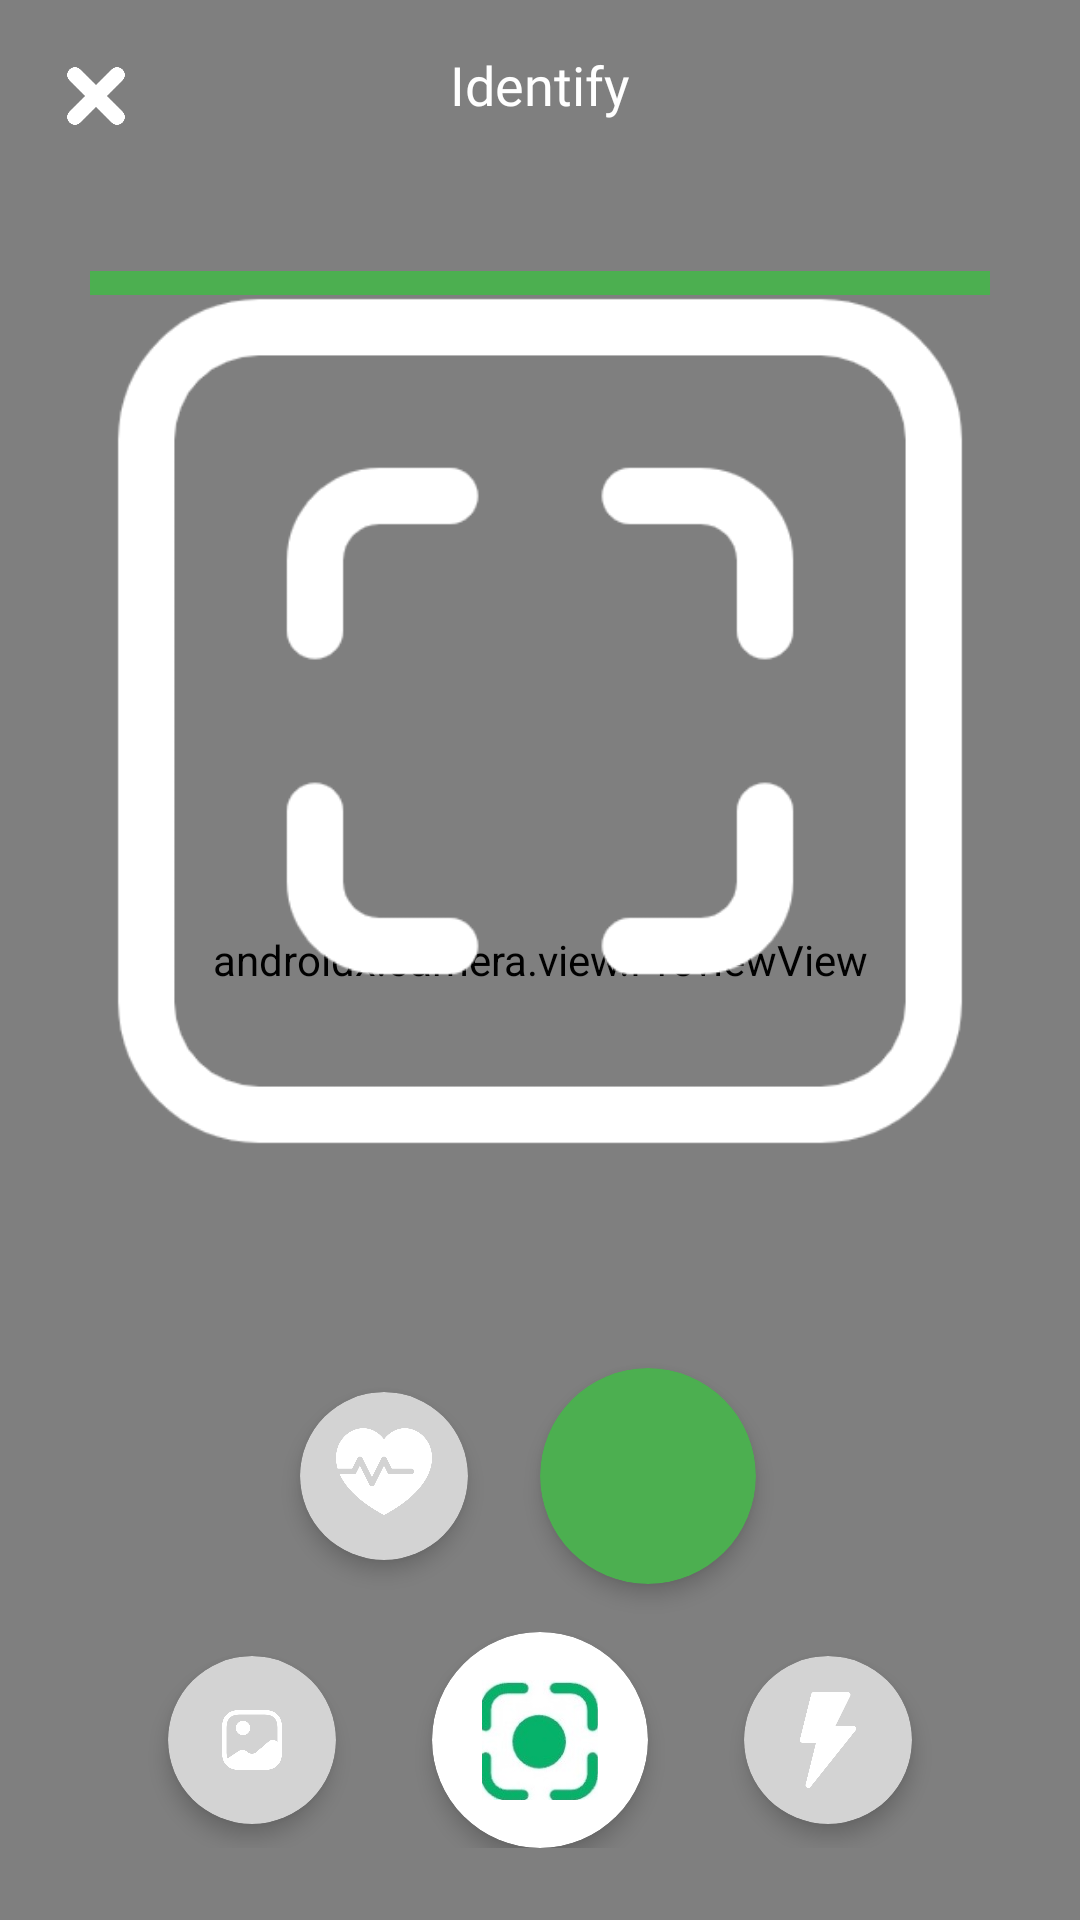

Icon click points for this 1080 × 1920 phone screenshot, format (x=x, y=y):
Capture: (x=540, y=1740)
close: (x=96, y=96)
Diagnose: (x=384, y=1476)
Flash: (x=828, y=1740)
Gallery: (x=252, y=1740)
